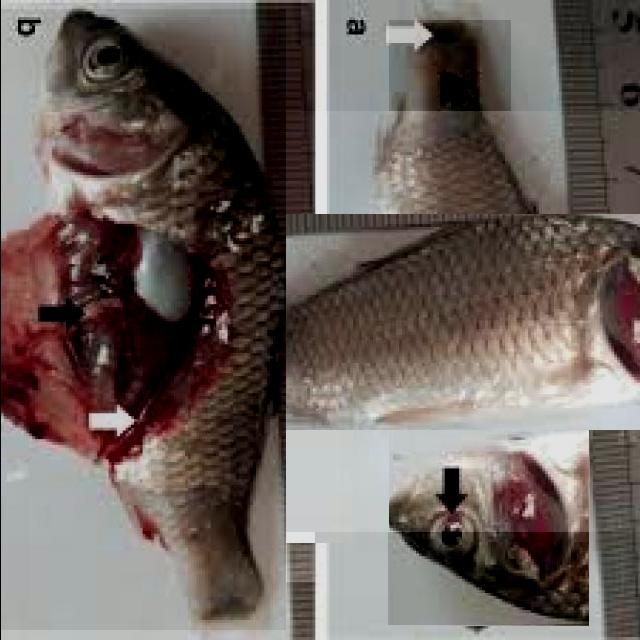EUS Disease: (0, 9, 285, 630), (267, 111, 640, 532), (0, 229, 314, 582), (387, 424, 588, 625), (388, 20, 510, 171)
